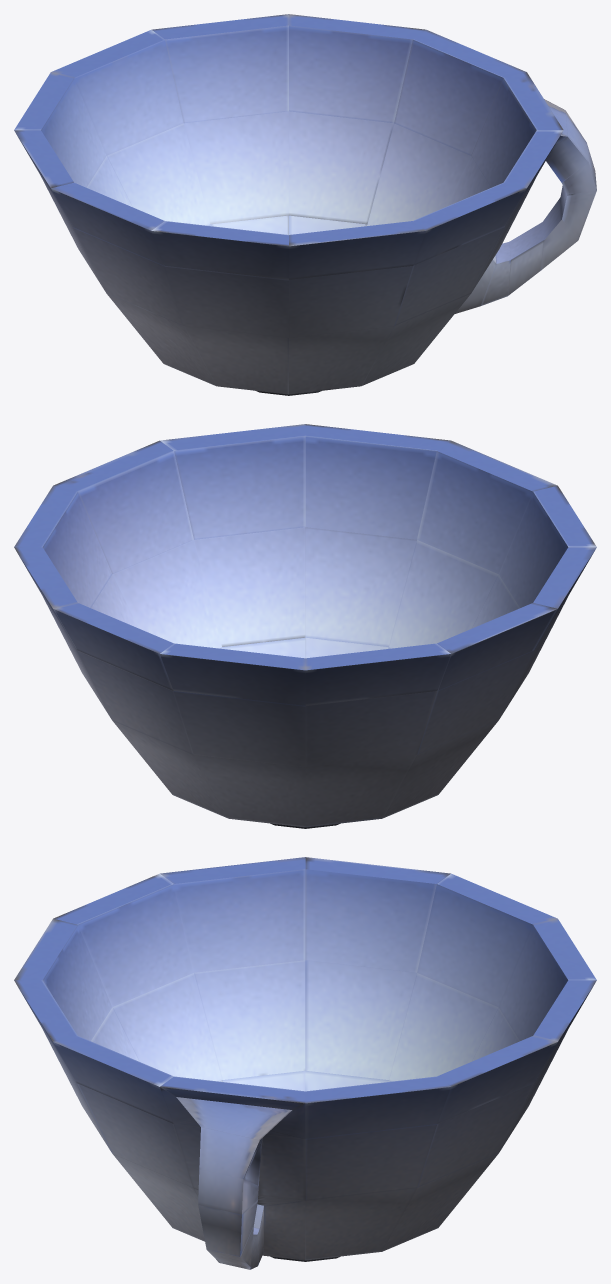
Rendered from cup02.fbx.
The picture shows the model from 3 angles, top to bottom: view 1: azimuth 30°, elevation 25°; view 2: azimuth 150°, elevation 25°; view 3: azimuth 270°, elevation 25°; orthographic projection. The views are drawn at different scales.
Parts seen in each view (by area): view 1: cup02; view 2: cup02; view 3: cup02.
Boxes of the visible parts, x1,y1,x2,y2 form: cup02: [14, 14, 596, 395]; cup02: [14, 424, 596, 828]; cup02: [14, 857, 596, 1269].
Size of the model in its own units: 0.1101 by 0.1019 by 0.0493.
Materials: 1 (1 with a texture image).
